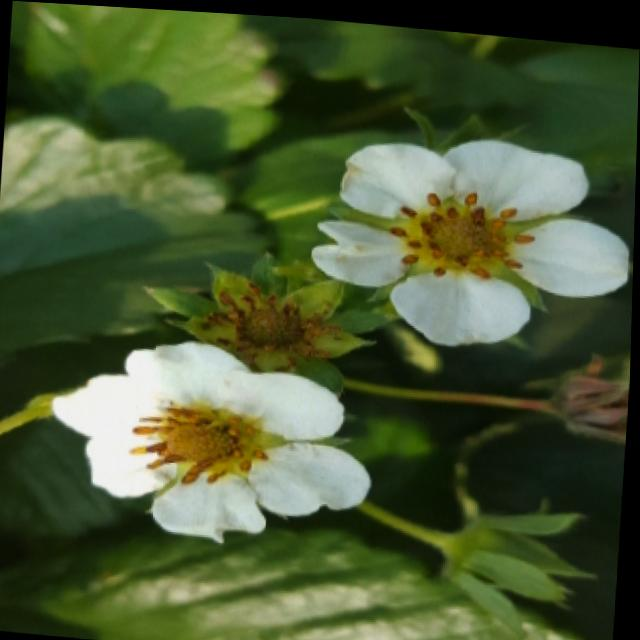Blossom Blight: (387, 176, 540, 280), (127, 399, 285, 490), (202, 266, 324, 364)
